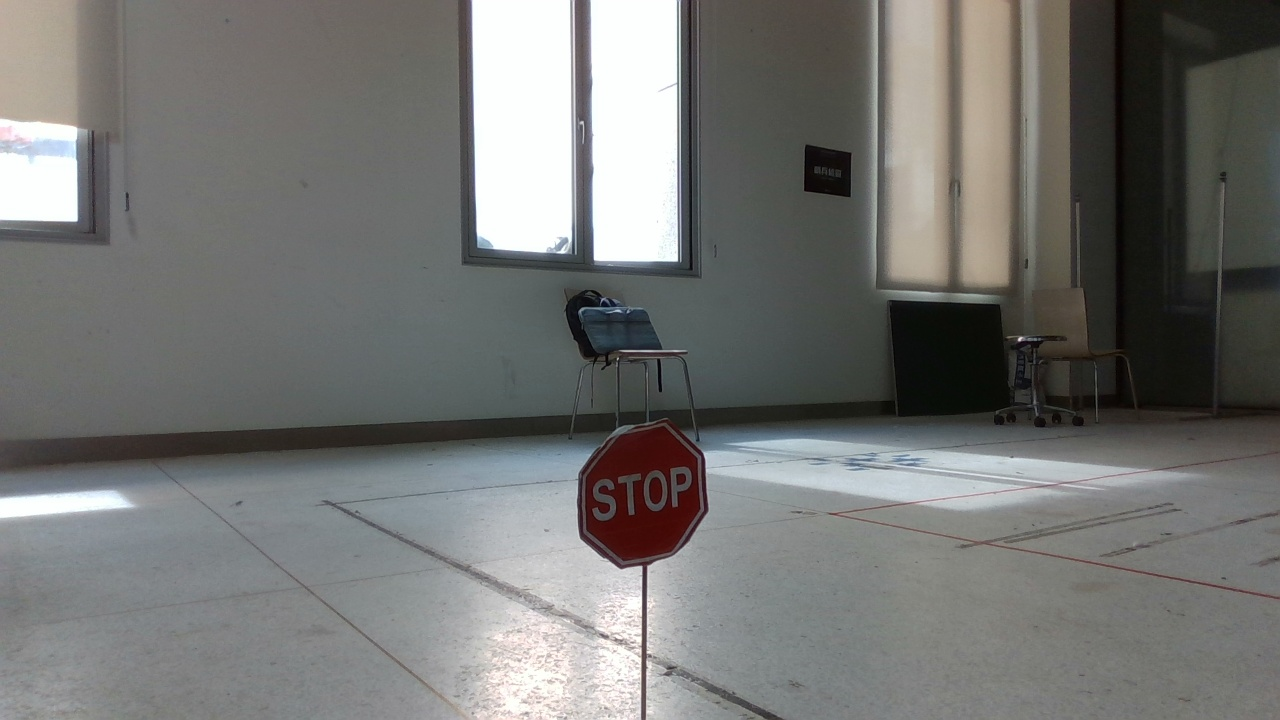stop_sign: (566, 417, 746, 720)
